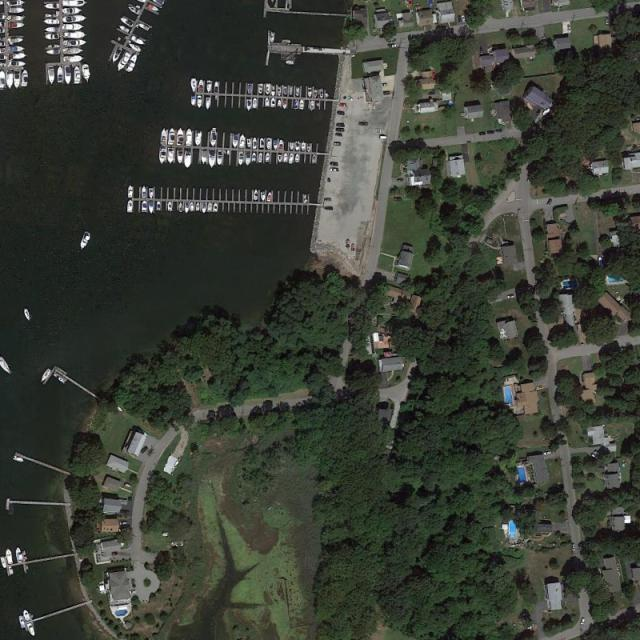vehicle: (543, 450, 553, 456), (389, 44, 398, 50), (547, 198, 553, 206), (580, 618, 586, 626), (325, 206, 334, 211), (330, 168, 339, 173), (330, 162, 339, 167), (382, 91, 391, 96), (358, 122, 369, 126), (347, 96, 354, 102), (397, 178, 405, 183), (335, 128, 345, 132), (336, 124, 346, 128), (457, 15, 462, 23), (129, 590, 137, 595), (536, 108, 541, 115), (507, 295, 514, 300), (334, 142, 342, 146), (335, 133, 343, 137), (338, 111, 346, 115), (339, 104, 347, 108), (487, 130, 495, 134), (120, 522, 128, 526), (325, 198, 332, 202), (380, 135, 387, 139), (380, 83, 387, 87), (462, 16, 466, 23), (479, 132, 486, 136), (496, 129, 503, 132)
